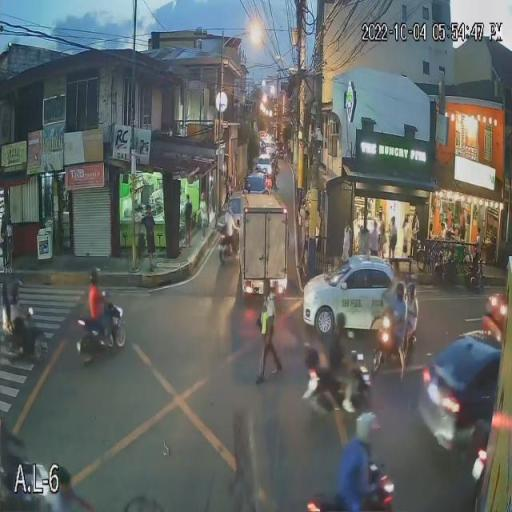helmet: (354, 410, 378, 440), (89, 267, 102, 282), (390, 278, 402, 290)
motorcycle: (301, 339, 376, 417), (75, 303, 128, 363), (372, 311, 418, 380), (0, 302, 41, 362), (364, 464, 398, 512), (215, 226, 239, 264)
rider: (334, 411, 384, 512), (304, 307, 360, 395), (86, 268, 116, 337), (382, 278, 408, 340), (402, 281, 420, 338), (216, 204, 238, 246)
